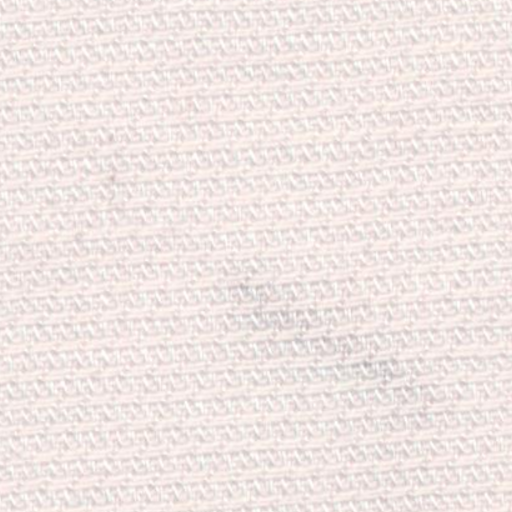WuZi: (233, 262, 468, 435)
